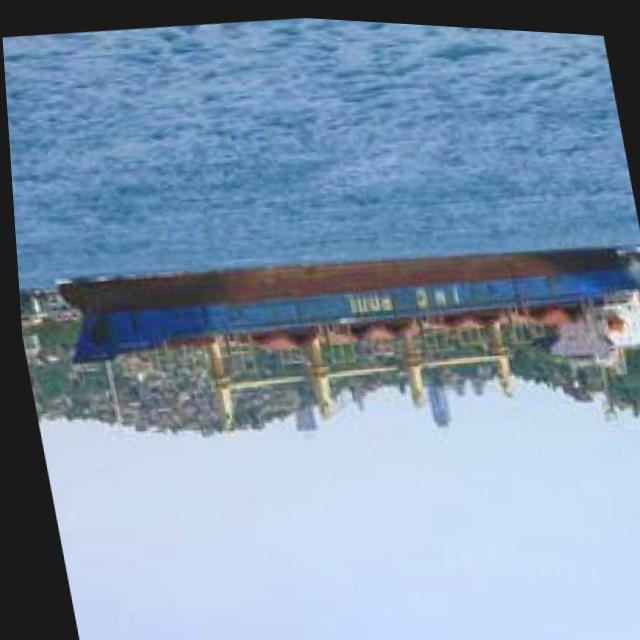ship2: (53, 240, 640, 427)
